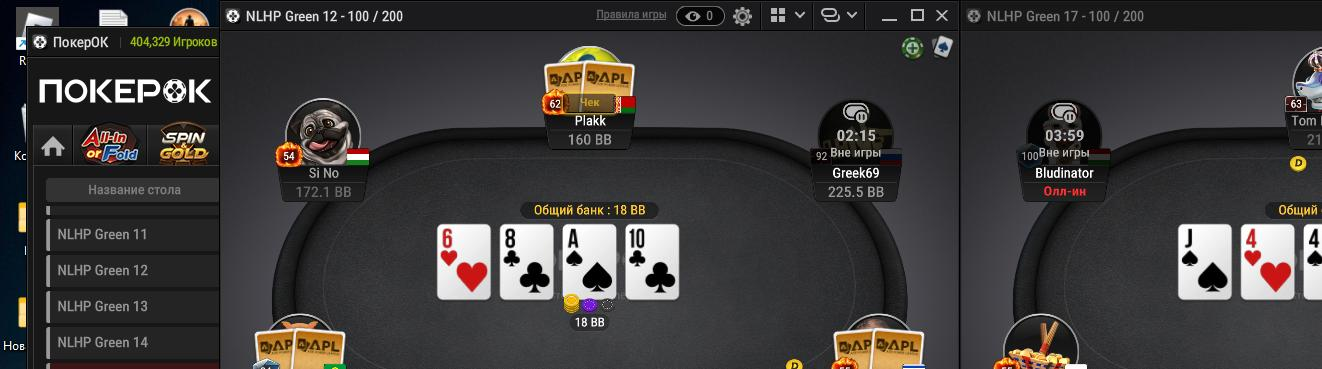10c: (626, 226, 677, 300)
4h: (1242, 225, 1294, 299)
4s: (1305, 225, 1322, 299)
6h: (437, 224, 492, 299)
8c: (501, 223, 553, 300)
As: (563, 224, 615, 299)
Js: (1177, 224, 1231, 301)
